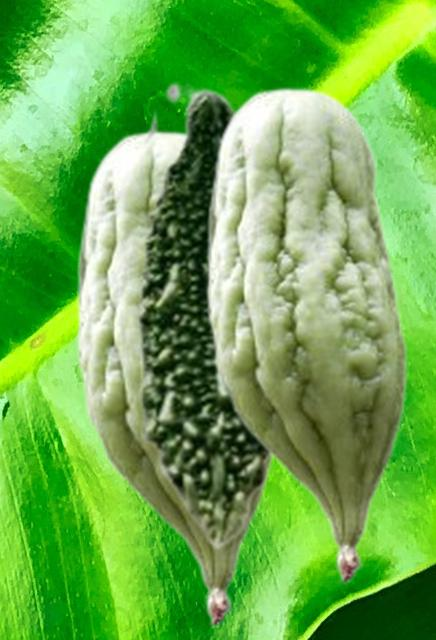ampalaya: (205, 86, 408, 583), (75, 129, 277, 626), (135, 81, 274, 552)
